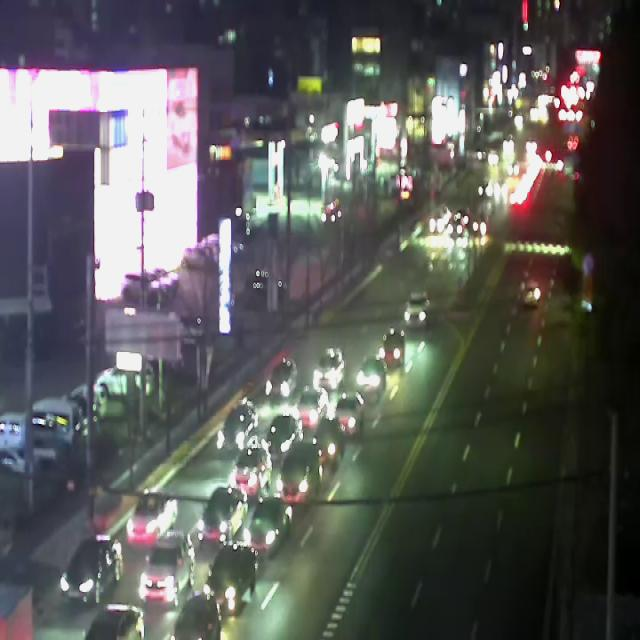Car: (60, 534, 121, 604), (139, 533, 196, 607), (203, 544, 255, 616), (0, 451, 57, 510), (198, 483, 245, 550), (277, 442, 323, 508), (126, 490, 178, 544), (248, 496, 292, 558), (32, 398, 83, 448), (97, 361, 155, 403), (170, 592, 220, 640), (232, 446, 272, 501), (85, 604, 144, 640), (222, 400, 258, 454), (121, 273, 175, 308), (266, 412, 303, 461), (314, 418, 346, 470), (313, 347, 345, 394), (334, 392, 365, 439), (298, 387, 329, 430), (269, 358, 297, 402), (356, 358, 386, 399), (204, 233, 244, 256), (0, 411, 24, 449), (181, 247, 219, 271), (404, 292, 429, 328), (382, 333, 404, 369), (154, 268, 180, 288), (524, 280, 540, 308)
